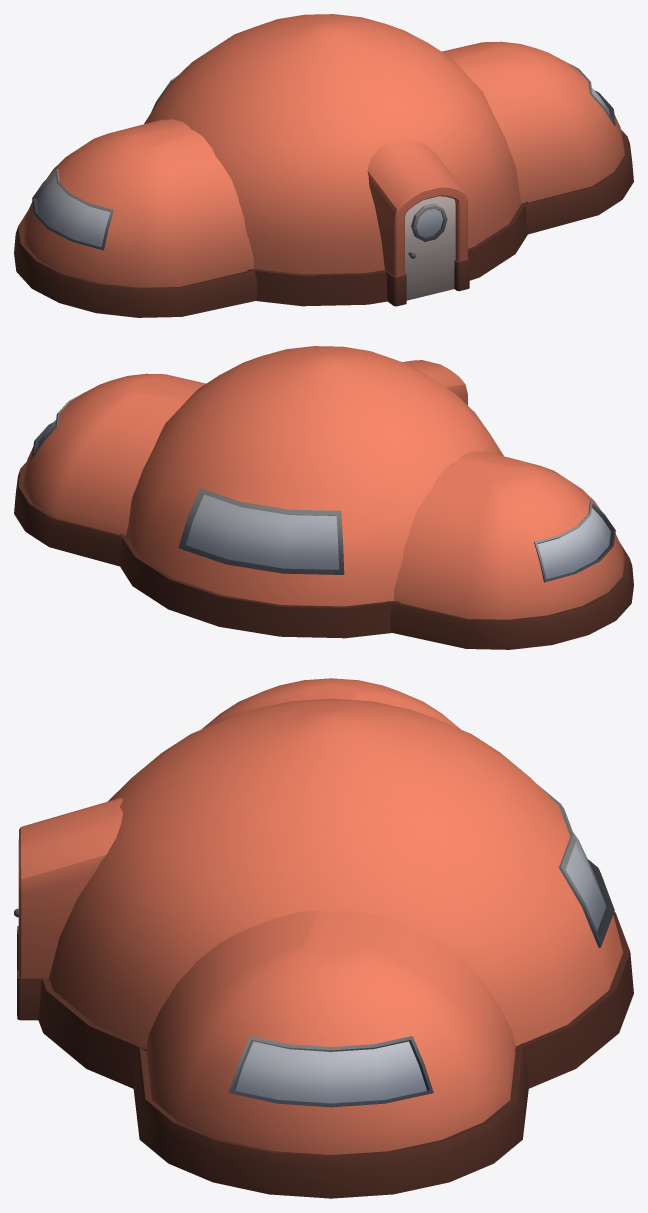
File: SM_House_06.fbx
3 views of the same model, one above another, from view 1: azimuth 30°, elevation 25°; view 2: azimuth 150°, elevation 25°; view 3: azimuth 270°, elevation 25° (orthographic). The views are drawn at different scales.
Visible parts, largest first — view 1: House_06; view 2: House_06; view 3: House_06.
Part boxes in pixels (x1=…): House_06: x1=14, y1=14, x2=633, y2=317; House_06: x1=14, y1=346, x2=633, y2=649; House_06: x1=14, y1=678, x2=633, y2=1198.
Size of the model in its own units: 975 by 303 by 620.
